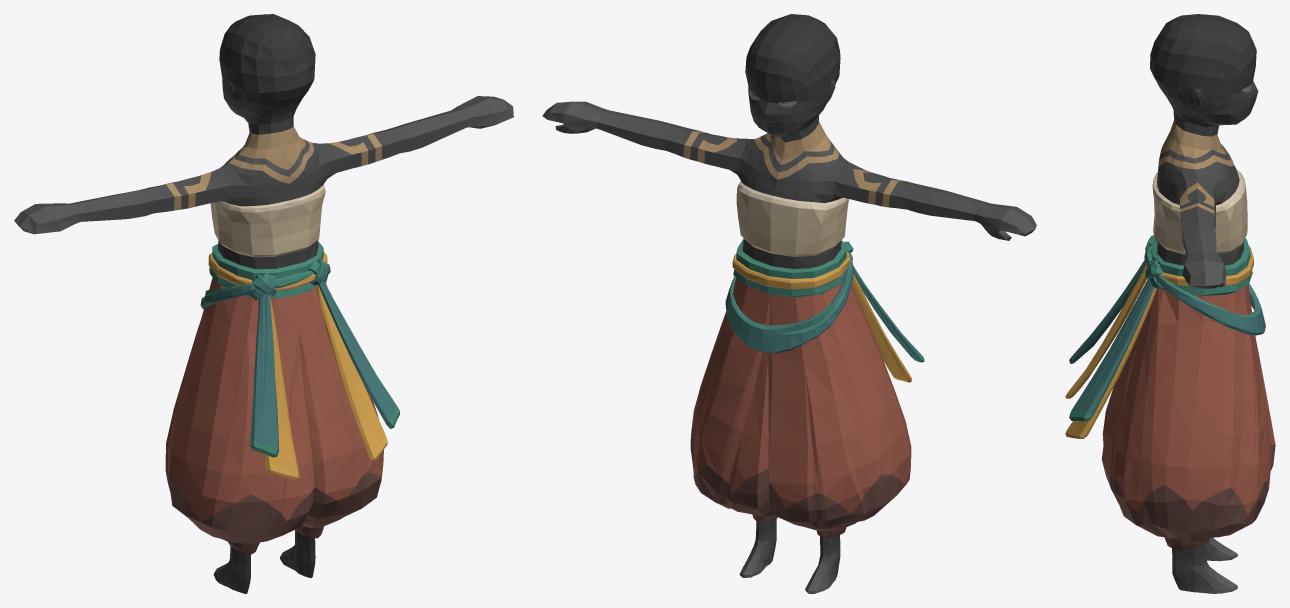
The model's file is CharSkyKid_Body_MoonlightTrouser.glb.
3 renders of one model, left to right at view 1: azimuth 30°, elevation 25°; view 2: azimuth 150°, elevation 25°; view 3: azimuth 270°, elevation 25°, orthographic.
Parts seen in each view (by area): view 1: CharSkyKid_Body_MoonlightTrouser; view 2: CharSkyKid_Body_MoonlightTrouser; view 3: CharSkyKid_Body_MoonlightTrouser.
Boxes of the visible parts, x1,y1,x2,y2 form: CharSkyKid_Body_MoonlightTrouser: [14, 14, 513, 593]; CharSkyKid_Body_MoonlightTrouser: [542, 14, 1036, 593]; CharSkyKid_Body_MoonlightTrouser: [1065, 14, 1275, 593].
Size of the model in its own units: 13.83 by 14.94 by 5.13.
Materials: 1 (1 with a texture image).
